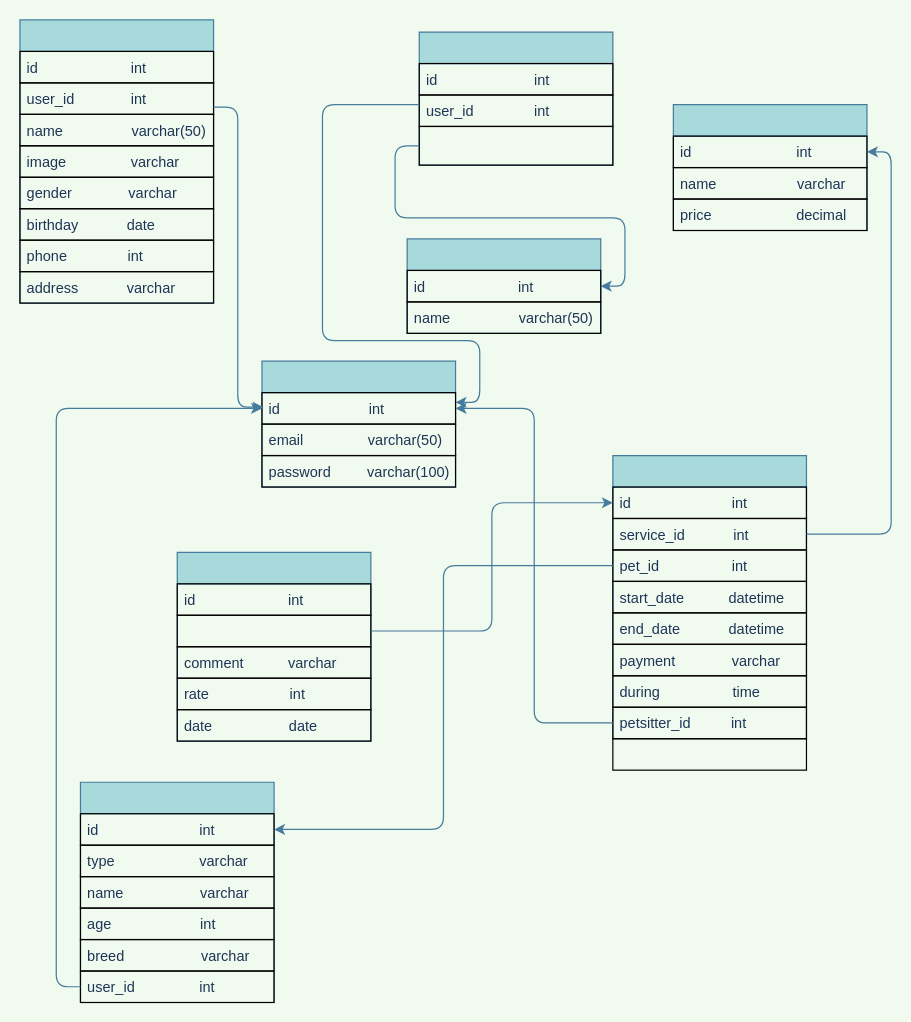
Image size: 911x1022. Some labels were removed from this diagram. Each missing label, with the box of its shape:
order_id int: (176, 614, 371, 647)
orders: (612, 454, 806, 739)
pets: (79, 781, 274, 1002)
reviews: (176, 551, 371, 741)
role_id int: (418, 125, 613, 165)
roles: (406, 238, 601, 333)
services: (672, 103, 867, 231)
status varchar: (612, 737, 806, 770)
user_info: (19, 19, 214, 303)
users: (261, 360, 456, 487)
users_roles: (418, 31, 613, 165)
